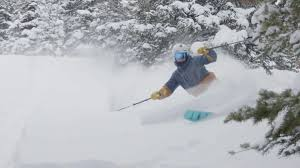skis: (182, 109, 222, 123)
